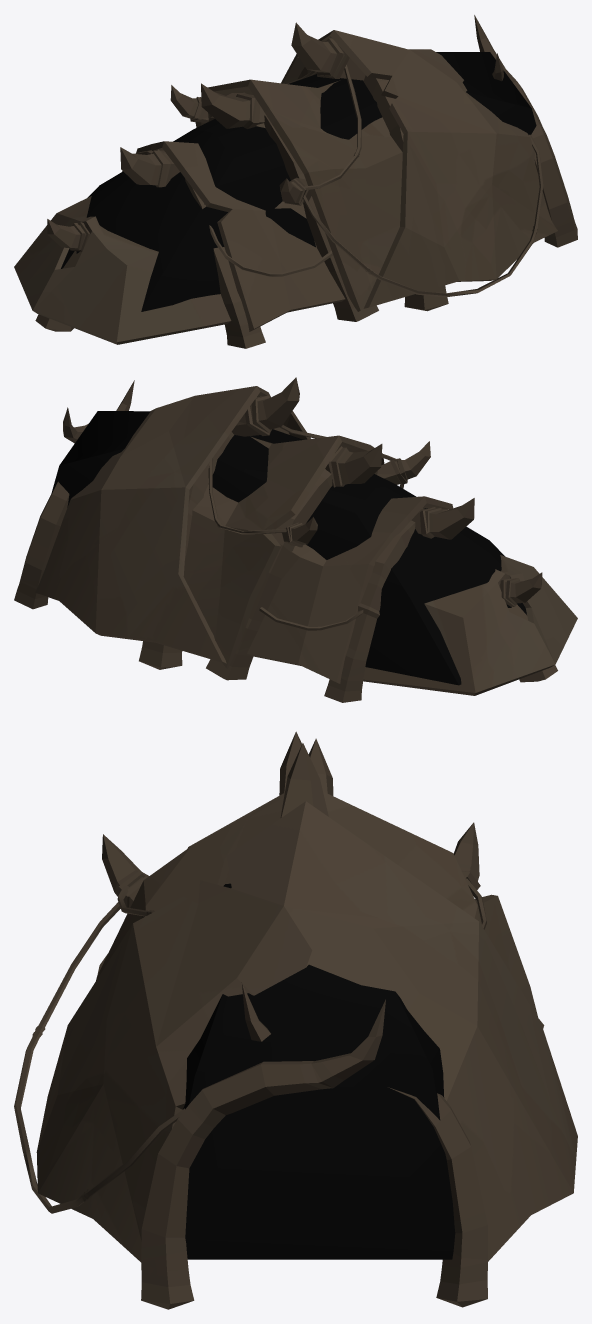
Rendered from bog_tent_b.gltf.
The picture shows the model from 3 angles, top to bottom: view 1: azimuth 30°, elevation 25°; view 2: azimuth 150°, elevation 25°; view 3: azimuth 270°, elevation 25°; orthographic projection. The views are drawn at different scales.
Visible parts, largest first — view 1: bog_tent_b; view 2: bog_tent_b; view 3: bog_tent_b.
Part boxes in pixels (x1=…): bog_tent_b: x1=14, y1=15, x2=577, y2=348; bog_tent_b: x1=14, y1=377, x2=577, y2=702; bog_tent_b: x1=14, y1=731, x2=577, y2=1309.
Size of the model in its own units: 7.84 by 3.83 by 4.78.
2 materials, 2 textured.
